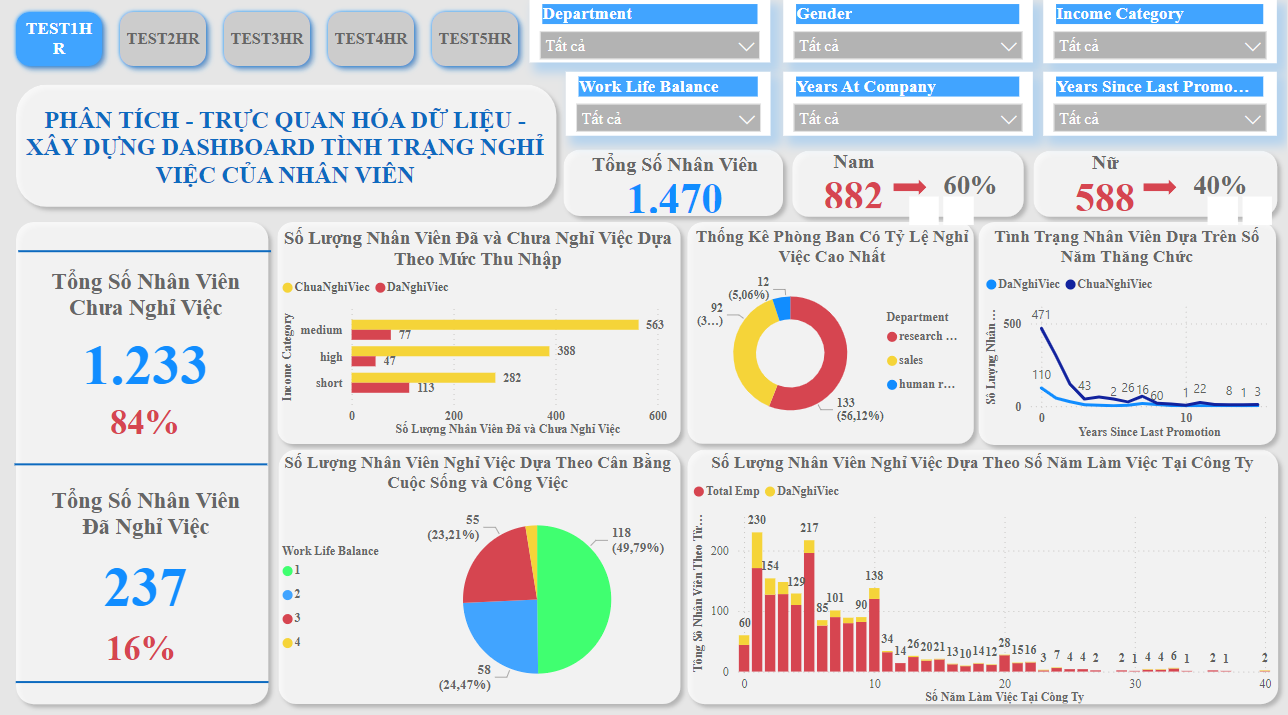

The page's visual inventory and layout, read from the dashboard file:
{"tool":"powerbi","page":{"name":"TEST1HR","canvas":[1280,720],"ordinal":0},"visuals":[{"type":"shape","box":[0,83.1,558.3,140.2],"z":0},{"type":"shape","box":[547.9,148,237.6,84.4],"z":1000},{"type":"shape","box":[776.5,148.1,249.4,84],"z":2000},{"type":"shape","box":[1017.3,148.1,261.7,84],"z":3000},{"type":"shape","box":[0,220.1,270.2,500.1],"z":4000},{"type":"shape","box":[261.2,220,421.2,240],"z":5000},{"type":"shape","box":[262.5,447.5,420,272.5],"z":6000},{"type":"shape","box":[671.3,447.6,609,272.7],"z":7000},{"type":"shape","box":[671.3,220.1,304.5,239.7],"z":8000},{"type":"shape","box":[962.4,220.1,315.5,240.9],"z":9000},{"type":"textbox","box":[13,109.1,531.1,107.8],"z":10000},{"type":"card","title":"Tổng Số Nhân Viên","fields":{"Values":["All Measures.Total Emp"]},"box":[558.3,159.7,218.1,64.9],"z":11000},{"type":"card","title":"Nam","fields":{"Values":["All Measures.Male"]},"box":[804.9,158,84,63],"z":12000},{"type":"card","fields":{"Values":["All Measures.% male"]},"box":[917.3,163,91.4,59.3],"z":13000},{"type":"card","title":"Nữ","fields":{"Values":["All Measures.Female"]},"box":[1050.6,159.3,96.3,65.4],"z":14000},{"type":"card","fields":{"Values":["All Measures.% female"]},"box":[1165.4,169.1,96.3,45.7],"z":15000},{"type":"card","title":"Tổng Số Nhân Viên Chưa Nghỉ Việc","fields":{"Values":["All Measures.ChuaNghiViec"]},"box":[25.7,276.4,225,132.1],"z":21000},{"type":"card","title":"Tổng Số Nhân Viên Đã Nghỉ Việc","fields":{"Values":["All Measures.DaNghiViec"]},"box":[25.7,495.2,225,139.4],"z":22000},{"type":"card","fields":{"Values":["All Measures.%chuanghi"]},"box":[94.2,407.2,88,41.6],"z":23000},{"type":"card","fields":{"Values":["All Measures.%danghi"]},"box":[88,634.7,92.9,37.9],"z":24000},{"type":"columnChart","title":"Số Lượng Nhân Viên Nghỉ Việc Dựa Theo Số Năm Làm Việc Tại Công Ty","fields":{"Category":["Employee-turnover (3).Years At Company"],"Y":["All Measures.Total Emp","All Measures.DaNghiViec"]},"box":[681.1,459.8,588.2,255.6],"z":25000},{"type":"pieChart","title":"Số Lượng Nhân Viên Nghỉ Việc Dựa Theo Cân Bằng Cuộc Sống và Công Việc","fields":{"Category":["Employee-turnover (3).Work Life Balance"],"Y":["All Measures.DaNghiViec"]},"box":[270,460,401.2,255],"z":26000},{"type":"clusteredBarChart","title":"Số Lượng Nhân Viên Đã và Chưa Nghỉ Việc Dựa Theo Mức Thu Nhập","fields":{"Y":["All Measures.ChuaNghiViec","All Measures.DaNghiViec"],"Category":["Employee-turnover (3).Income Category"]},"box":[270,233.8,401.2,213.8],"z":27000},{"type":"shape","box":[7.3,447.6,253.1,47.7],"z":28000},{"type":"shape","box":[11,233.6,253.1,48.9],"z":29000},{"type":"shape","box":[8.6,675,253.1,28.1],"z":30000},{"type":"donutChart","title":"Thống Kê Phòng Ban Có Tỷ Lệ Nghỉ Việc Cao Nhất","fields":{"Y":["All Measures.DaNghiViec"],"Category":["Employee-turnover.Department"]},"box":[682.3,233.6,284.9,215.2],"z":31000},{"type":"lineChart","title":"Tình Trạng Nhân Viên Dựa Trên Số Năm Thăng Chức","fields":{"Y":["All Measures.DaNghiViec","All Measures.ChuaNghiViec"],"Category":["Employee-turnover (3).Years Since Last Promotion"]},"box":[973.4,233.6,292.3,216.4],"z":32000},{"type":"pageNavigator","box":[0,10.4,522,72.7],"z":33000},{"type":"slicer","fields":{"Values":["Employee-turnover (3).Department"]},"box":[522.2,6.2,240.7,63],"z":34000},{"type":"slicer","fields":{"Values":["Employee-turnover (3).Gender"]},"box":[776.5,6.2,249.4,63],"z":35000},{"type":"slicer","fields":{"Values":["Employee-turnover (3).Income Category"]},"box":[1035.8,6.2,233.3,64.2],"z":36000},{"type":"slicer","fields":{"Values":["Employee-turnover (3).Work Life Balance"]},"box":[558.3,79.2,205.2,63.6],"z":37000},{"type":"slicer","fields":{"Values":["Employee-turnover (3).Years At Company"]},"box":[776.5,79,249.4,64.2],"z":38000},{"type":"slicer","fields":{"Values":["Employee-turnover (3).Years Since Last Promotion"]},"box":[1035.8,79,233.3,64.2],"z":39000},{"type":"shape","box":[886.4,186.4,33.3,16],"z":40000},{"type":"shape","box":[1135.8,186.4,33.3,16],"z":41000}]}

Visuals, with their boxes in screenshot pixels (x1, y1, x2, y2), scaled from the page's 1280x720 canvas onto the 1288x715 screenshot:
shape: (left=0, top=83, right=562, bottom=222)
shape: (left=551, top=147, right=790, bottom=231)
shape: (left=781, top=147, right=1032, bottom=230)
shape: (left=1024, top=147, right=1287, bottom=230)
shape: (left=0, top=219, right=272, bottom=714)
shape: (left=263, top=218, right=687, bottom=457)
shape: (left=264, top=444, right=687, bottom=714)
shape: (left=675, top=444, right=1287, bottom=714)
shape: (left=675, top=219, right=982, bottom=457)
shape: (left=968, top=219, right=1286, bottom=458)
textbox: (left=13, top=108, right=548, bottom=215)
"Tổng Số Nhân Viên" card: (left=562, top=159, right=781, bottom=223)
"Nam" card: (left=810, top=157, right=894, bottom=219)
card - All Measures.% male: (left=923, top=162, right=1015, bottom=221)
"Nữ" card: (left=1057, top=158, right=1154, bottom=223)
card - All Measures.% female: (left=1173, top=168, right=1270, bottom=213)
"Tổng Số Nhân Viên Chưa Nghỉ Việc" card: (left=26, top=274, right=252, bottom=406)
"Tổng Số Nhân Viên Đã Nghỉ Việc" card: (left=26, top=492, right=252, bottom=630)
card - All Measures.%chuanghi: (left=95, top=404, right=183, bottom=446)
card - All Measures.%danghi: (left=89, top=630, right=182, bottom=668)
"Số Lượng Nhân Viên Nghỉ Việc Dựa Theo Số Năm Làm Việc Tại Công Ty" columnChart: (left=685, top=457, right=1277, bottom=710)
"Số Lượng Nhân Viên Nghỉ Việc Dựa Theo Cân Bằng Cuộc Sống và Công Việc" pieChart: (left=272, top=457, right=675, bottom=710)
"Số Lượng Nhân Viên Đã và Chưa Nghỉ Việc Dựa Theo Mức Thu Nhập" clusteredBarChart: (left=272, top=232, right=675, bottom=444)
shape: (left=7, top=444, right=262, bottom=492)
shape: (left=11, top=232, right=266, bottom=281)
shape: (left=9, top=670, right=263, bottom=698)
"Thống Kê Phòng Ban Có Tỷ Lệ Nghỉ Việc Cao Nhất" donutChart: (left=687, top=232, right=973, bottom=446)
"Tình Trạng Nhân Viên Dựa Trên Số Năm Thăng Chức" lineChart: (left=979, top=232, right=1274, bottom=447)
pageNavigator: (left=0, top=10, right=525, bottom=83)
slicer - Employee-turnover (3).Department: (left=525, top=6, right=768, bottom=69)
slicer - Employee-turnover (3).Gender: (left=781, top=6, right=1032, bottom=69)
slicer - Employee-turnover (3).Income Category: (left=1042, top=6, right=1277, bottom=70)
slicer - Employee-turnover (3).Work Life Balance: (left=562, top=79, right=768, bottom=142)
slicer - Employee-turnover (3).Years At Company: (left=781, top=78, right=1032, bottom=142)
slicer - Employee-turnover (3).Years Since Last Promotion: (left=1042, top=78, right=1277, bottom=142)
shape: (left=892, top=185, right=925, bottom=201)
shape: (left=1143, top=185, right=1176, bottom=201)
